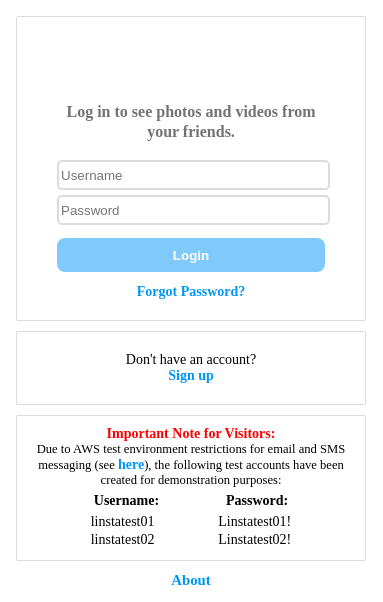
Scenario: LoginLayout › disables login button when form is invalid
Check: the button "Login" is disabled, box [57,238,325,272]
Type "user" into the field with placeholder "Username". click: (194, 175)
box: [57,160,330,190]
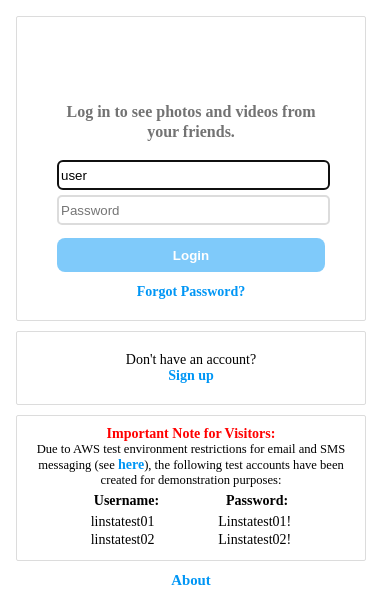
Check: the button "Login" is disabled, box [57,238,325,272]
Type "bad" into the password field with placeholder "Password". click: (194, 210)
box: [57,195,330,225]
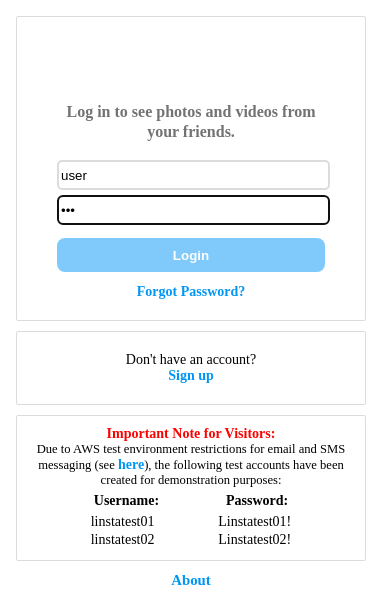
Check: the button "Login" is disabled, box [57,238,325,272]
Type "ValidPass1!" into the password field with placeholder "Password". click: (194, 210)
box: [57,195,330,225]
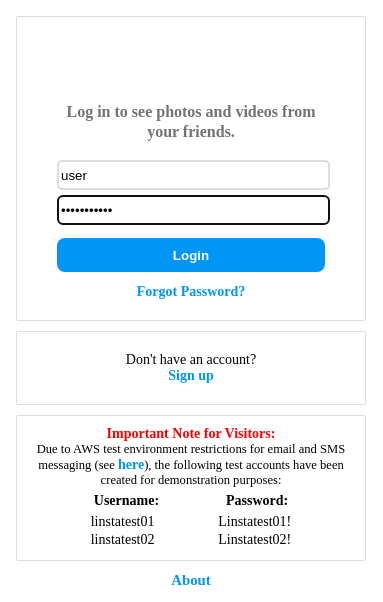
Check: the button "Login" is enabled, box [57,238,325,272]
